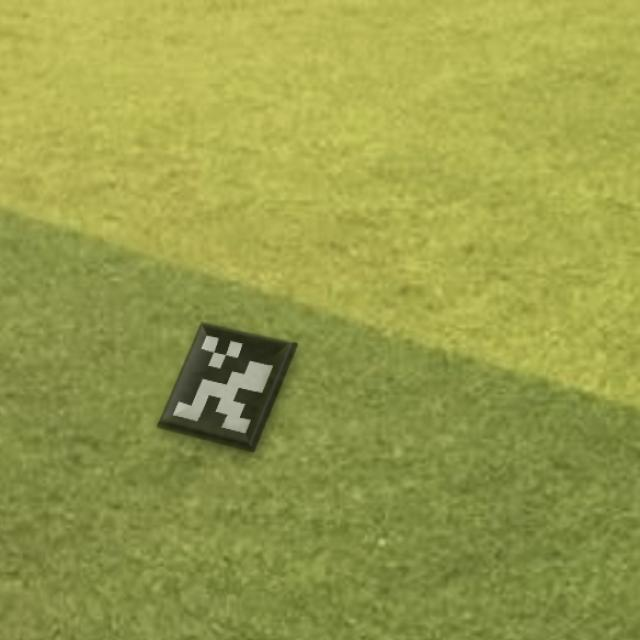marker: (147, 312, 308, 461)
